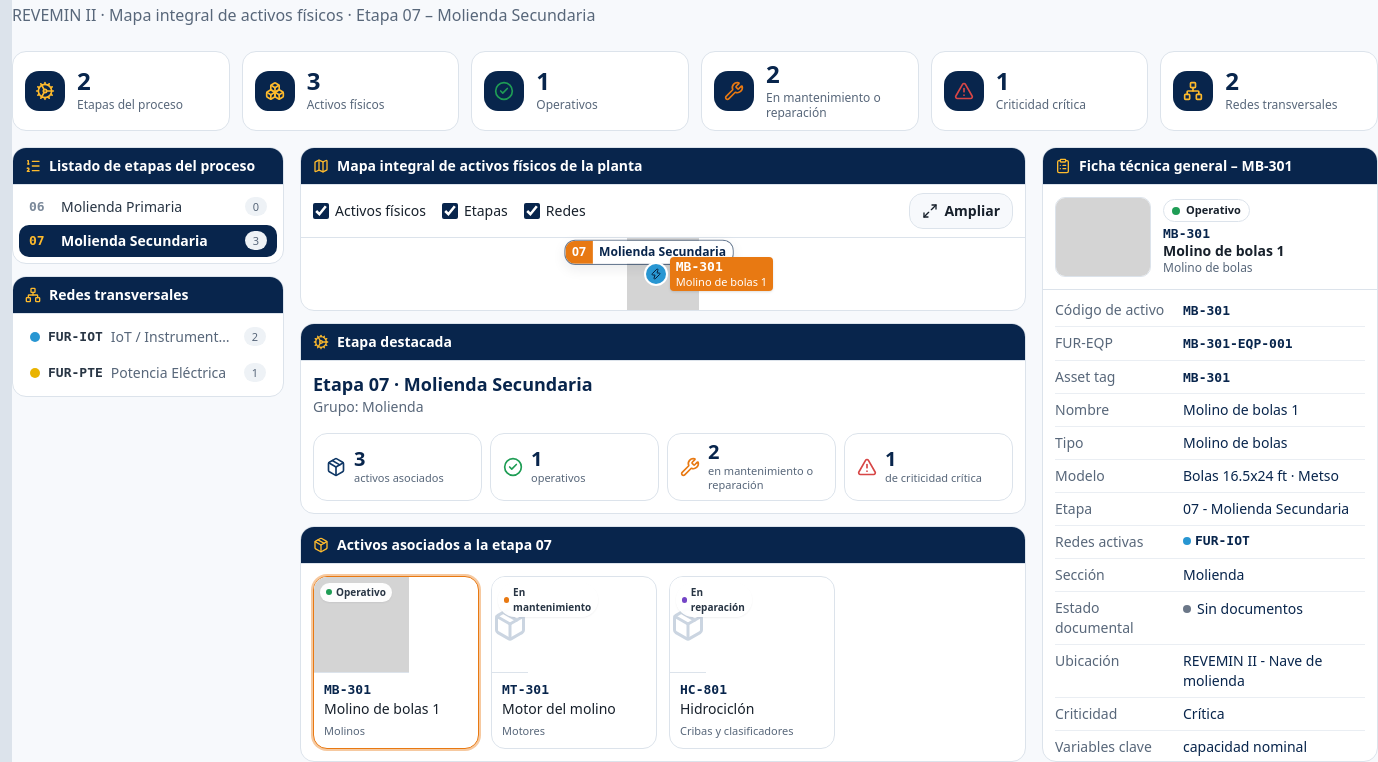
Scenario: Geoportal de Activos Físicos › Ficha técnica general › elegir otra tarjeta cambia la ficha y el activo elegido queda en la URL
This screenshot has width=1378, height=762.
(page scrolled)
Click the button "En mantenimiento MT-301 Motor del molino Motores": (574, 662) top-left (491, 576), bottom-right (657, 749)
(page scrolled)
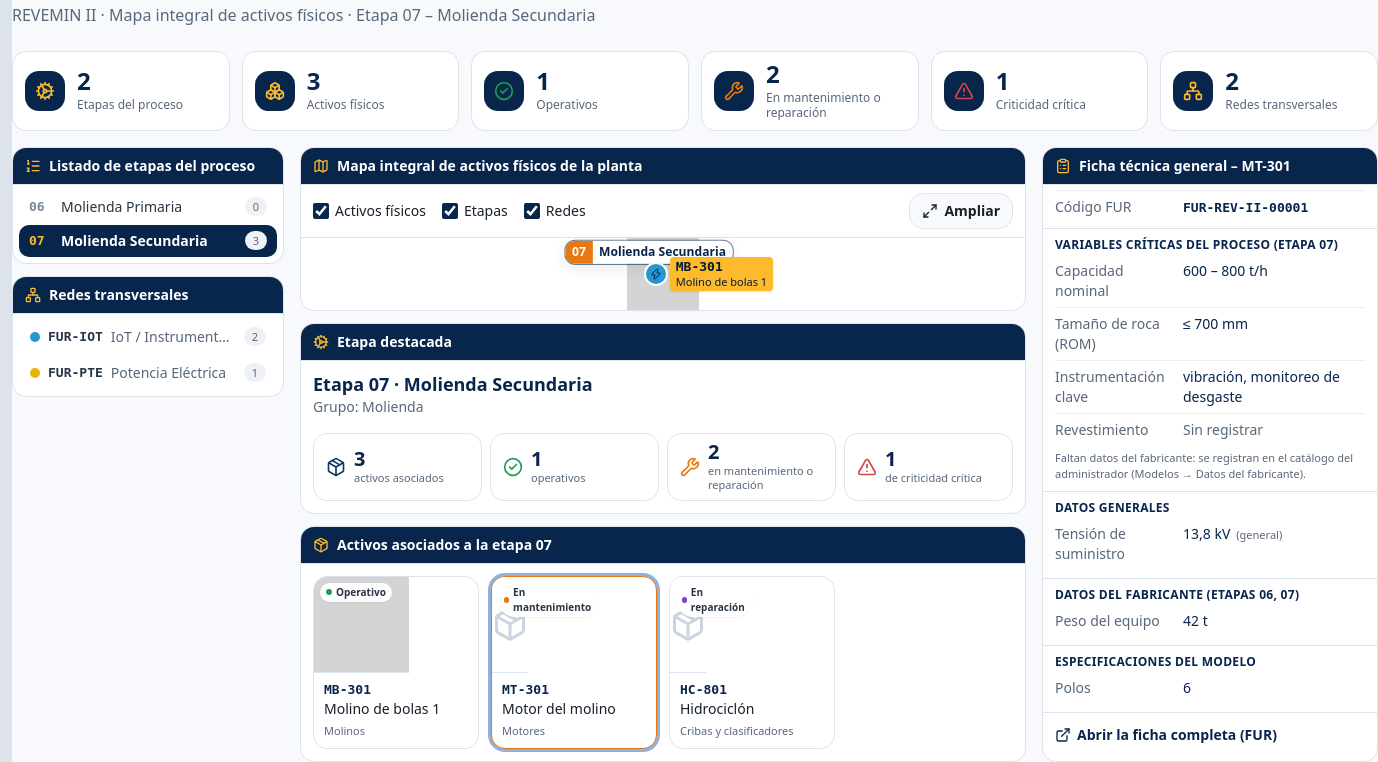
Now the text "Polos" is shown, box top-left (1055, 678), bottom-right (1091, 697)
